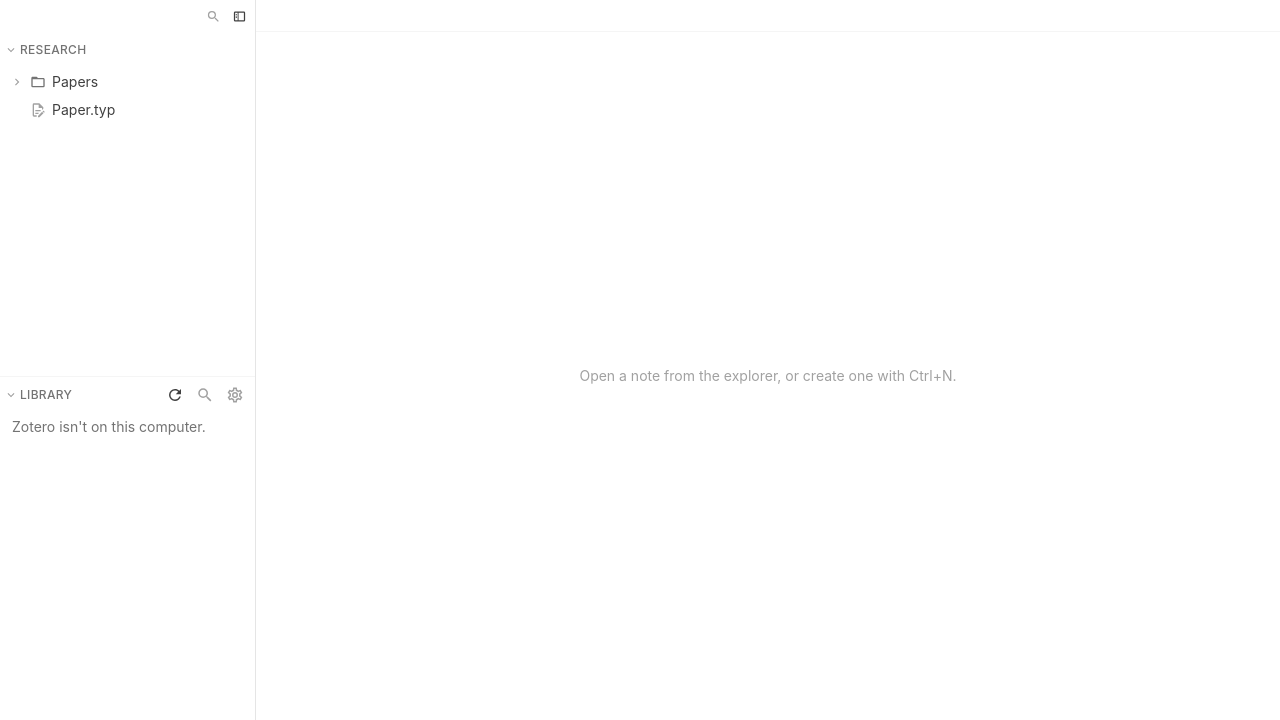
Scenario: The PDF reader › opens a PDF from the explorer in a tab
What coordinates should you click on to do the following:
click the button "Papers"
I would click on:
 (128, 82)
Its box is [6, 68, 249, 96].
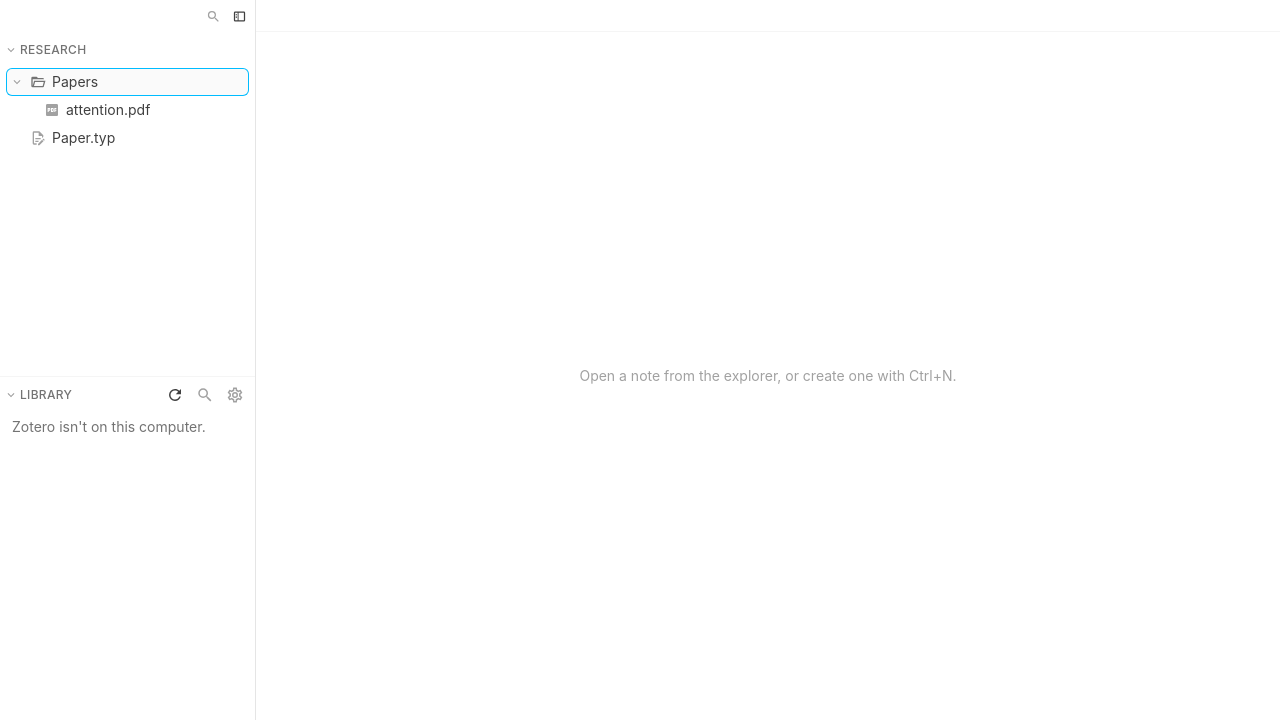
What coordinates should you click on to do the following:
click the button "attention.pdf"
I would click on:
 (128, 110)
Its box is [6, 96, 249, 124].
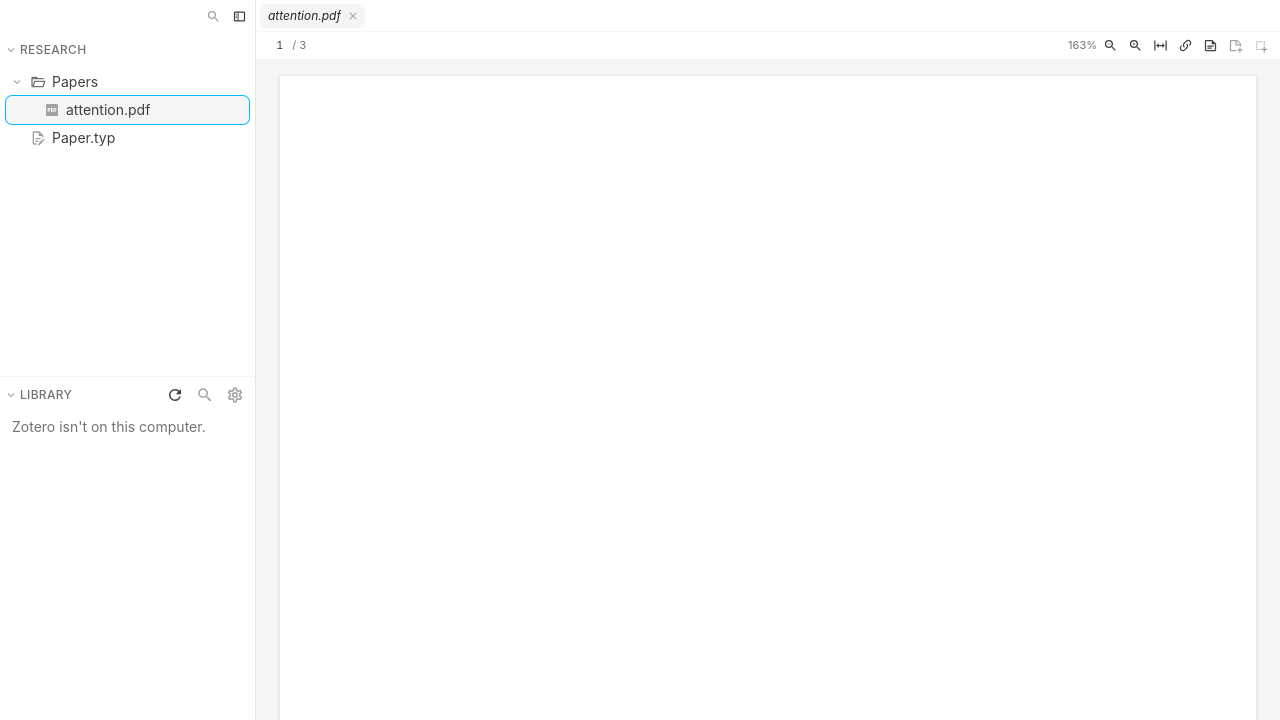
Result: the tab "attention.pdf" is shown at [260, 4, 365, 28]
